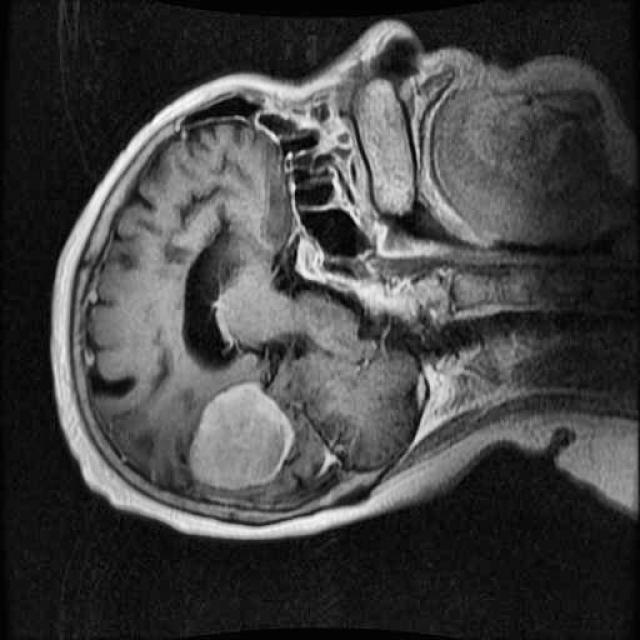Tumor: (177, 364, 308, 498)
